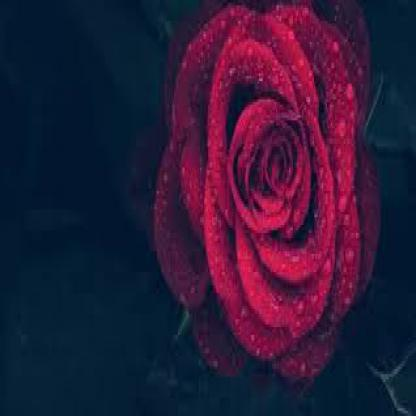Rose-Mawar: (150, 4, 391, 394)
